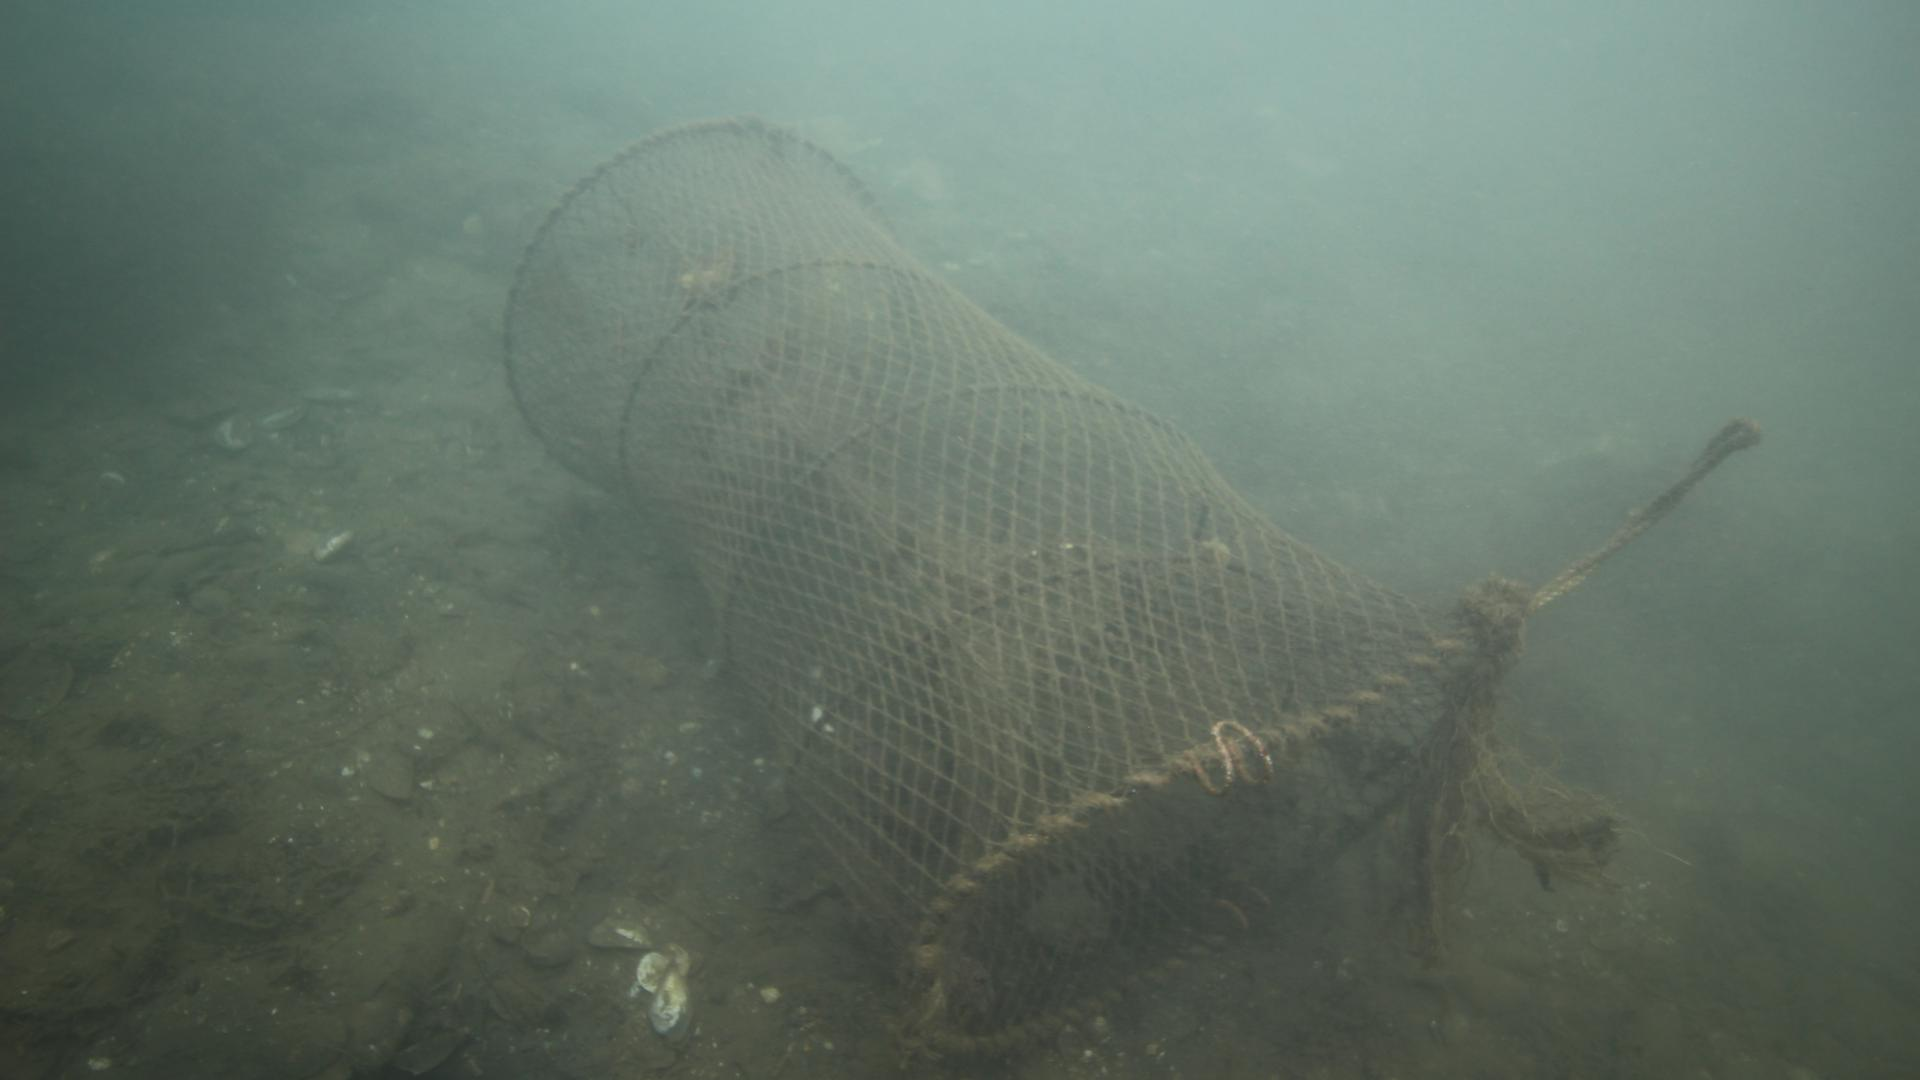bundle of ropes: (1437, 411, 1767, 887)
spring fish trap: (497, 113, 1484, 1058)
